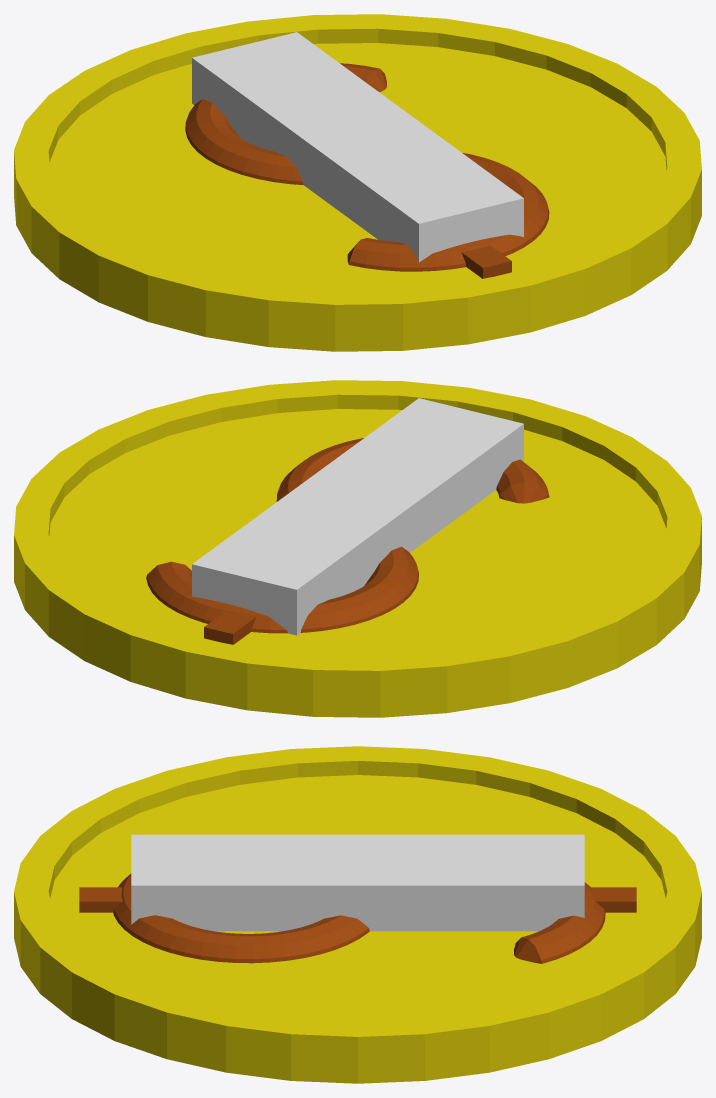
The model's file is Salomon_Clément - La pièce.fbx.
The picture shows the model from 3 angles, top to bottom: view 1: azimuth 30°, elevation 25°; view 2: azimuth 150°, elevation 25°; view 3: azimuth 270°, elevation 25°; orthographic projection.
Visible parts, largest first — view 1: Pièce, Cache du S, S, Barre du S; view 2: Pièce, Cache du S, S, Barre du S; view 3: Pièce, Cache du S, S, Barre du S.
Boxes of the visible parts, box(x1,y1,x2,y2) form: Pièce: box(14, 14, 701, 351); Cache du S: box(192, 32, 523, 262); S: box(185, 63, 549, 271); Barre du S: box(461, 245, 511, 278); Pièce: box(14, 380, 701, 717); Cache du S: box(192, 398, 523, 635); S: box(146, 438, 549, 633); Barre du S: box(204, 612, 255, 644); Pièce: box(14, 746, 701, 1083); Cache du S: box(131, 834, 584, 931); S: box(113, 873, 605, 963); Barre du S: box(79, 887, 636, 912).
Bounding box in the file's own units: 200 × 35.2 × 200.
